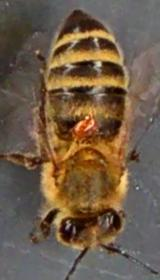varroa_mite: (68, 114, 104, 144)
